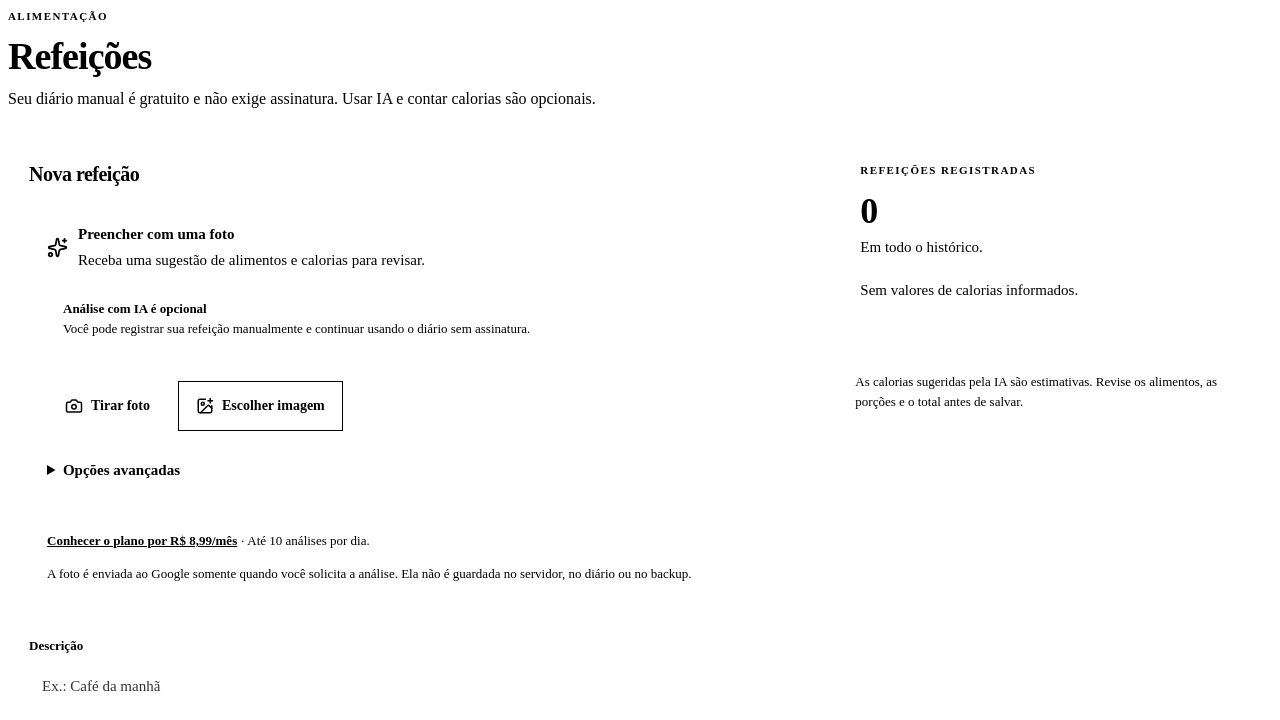
Test case: refeição por foto › oferece plano ou chave antes de abrir a câmera sem login nem chave
The image size is (1280, 720).
Click the file field "Tirar foto": (108,406) [65,397,150,415]
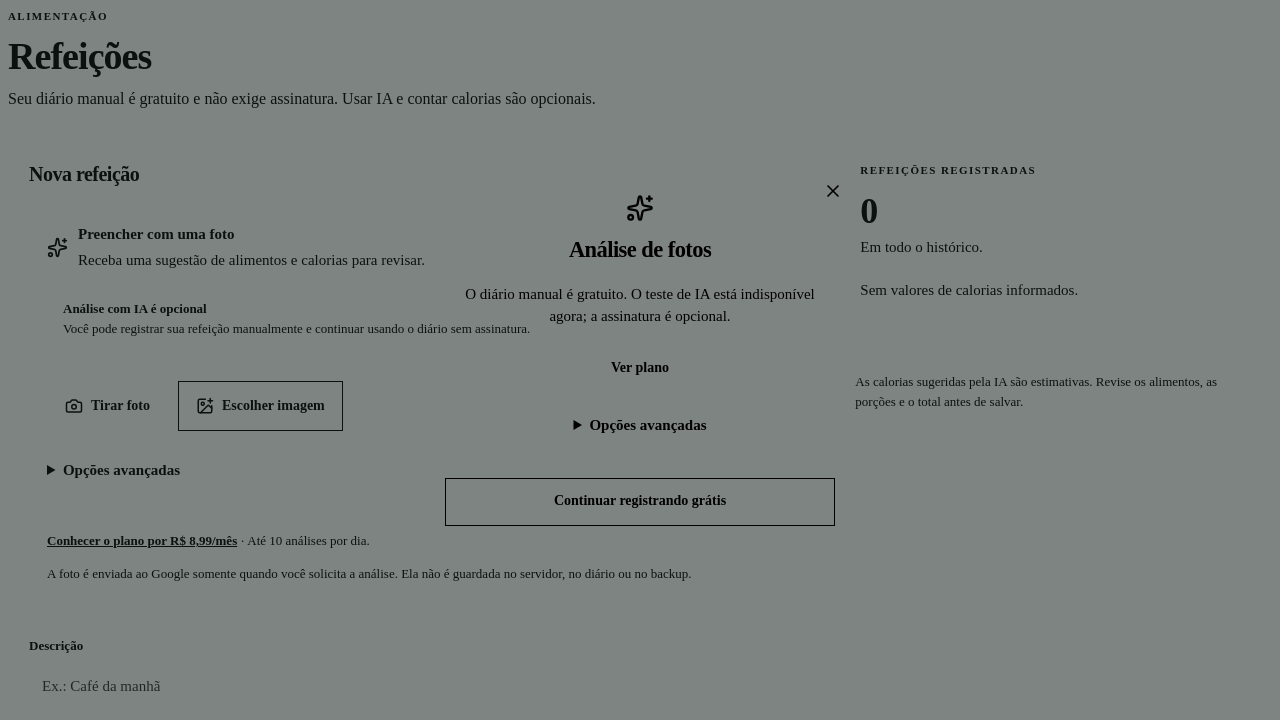
Check: the dialog "Análise de fotos" is shown, box [421,170,859,550]
Click the heading "Opções avançadas": (648,425) [589,417,706,433]
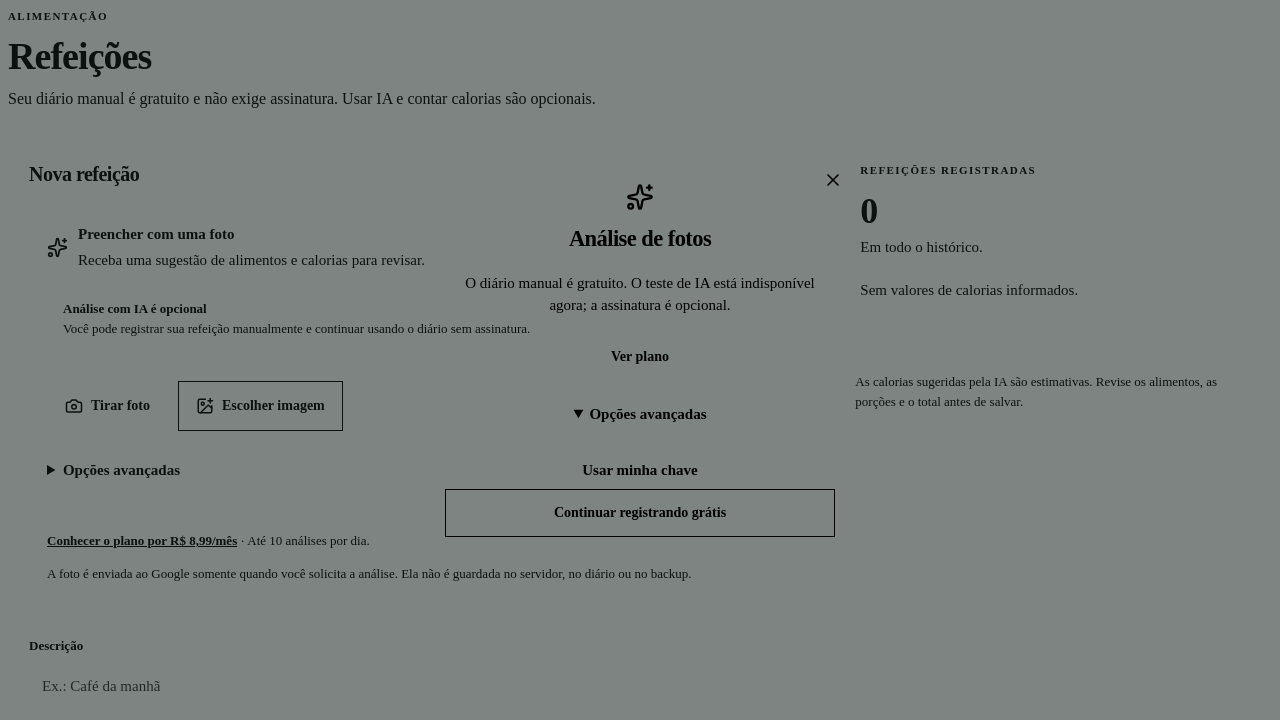
Click the button "Continuar registrando grátis": (640,513) [445,489,835,537]
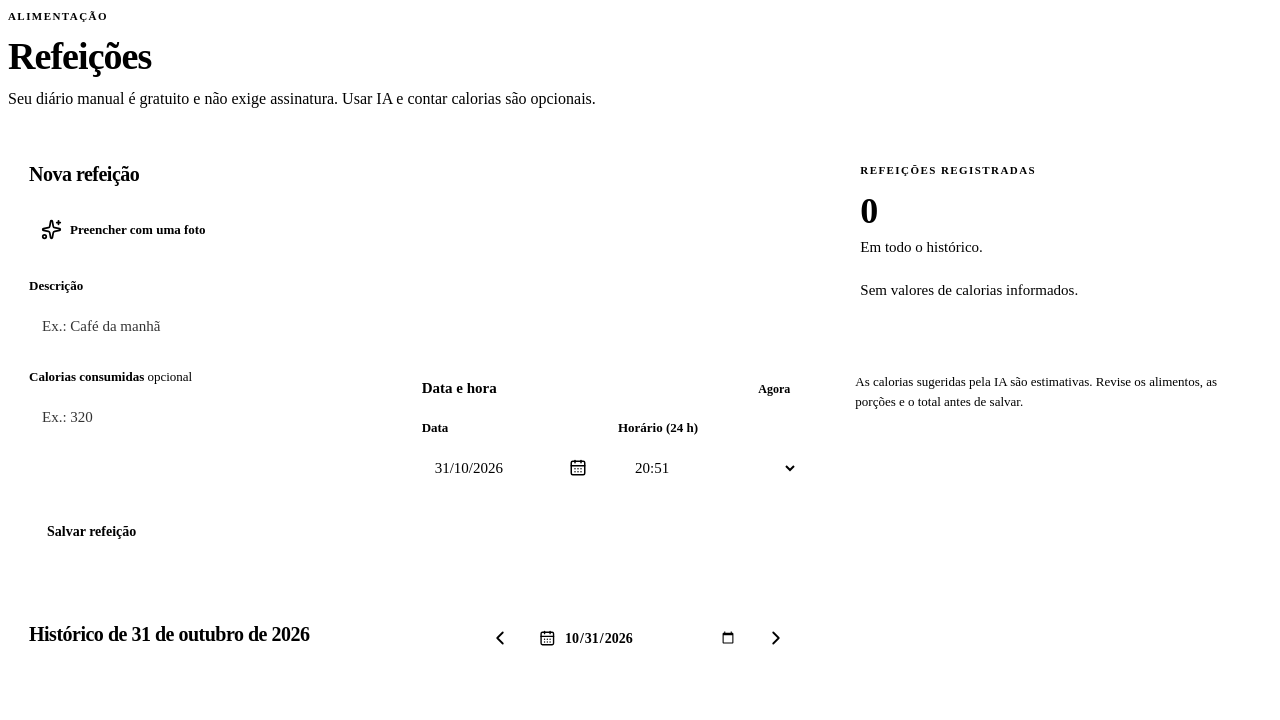
Check: the dialog is gone
Check: the button "Preencher com uma foto" is collapsed
Check: the file field "Tirar foto" is gone
Click the button "Preencher com uma foto": (138,229) [41,219,786,240]
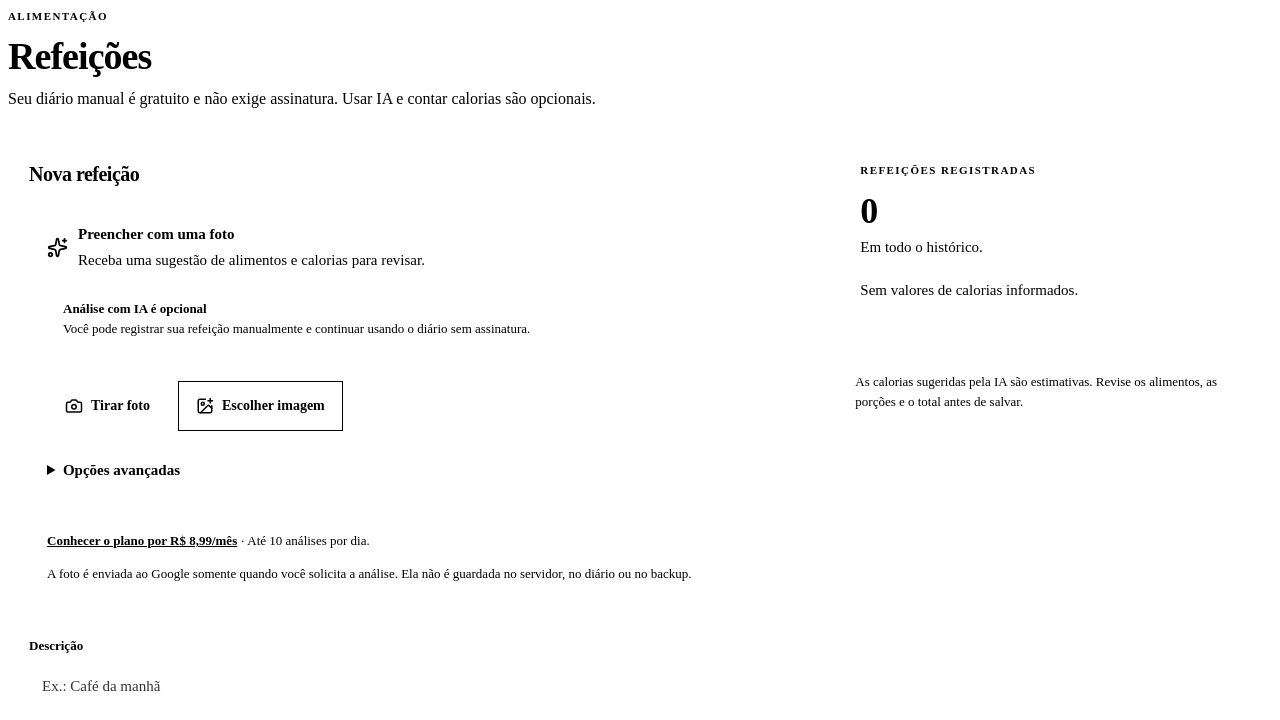
Check: the button "Preencher com uma foto" is expanded, box [47,223,780,271]
Check: the file field "Tirar foto" is shown, box [65,397,150,415]
